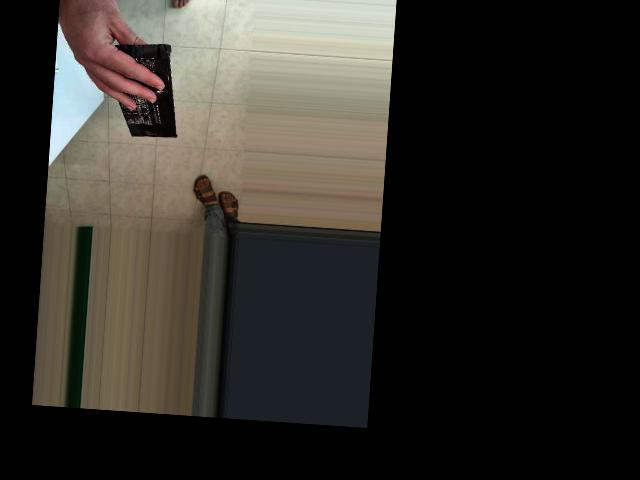chocolate: (140, 81, 261, 171)
